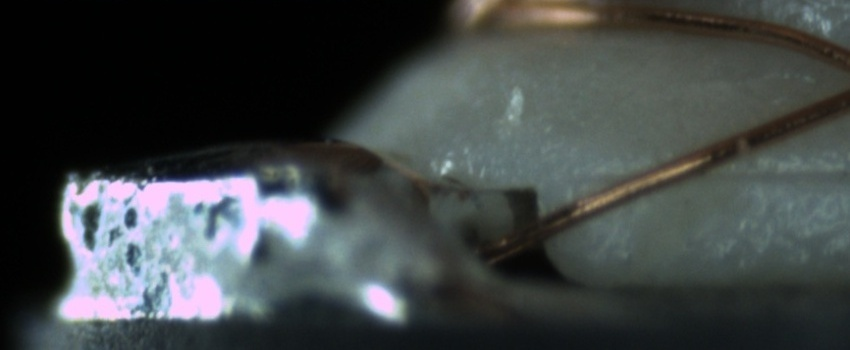DL: (601, 140, 849, 208)
